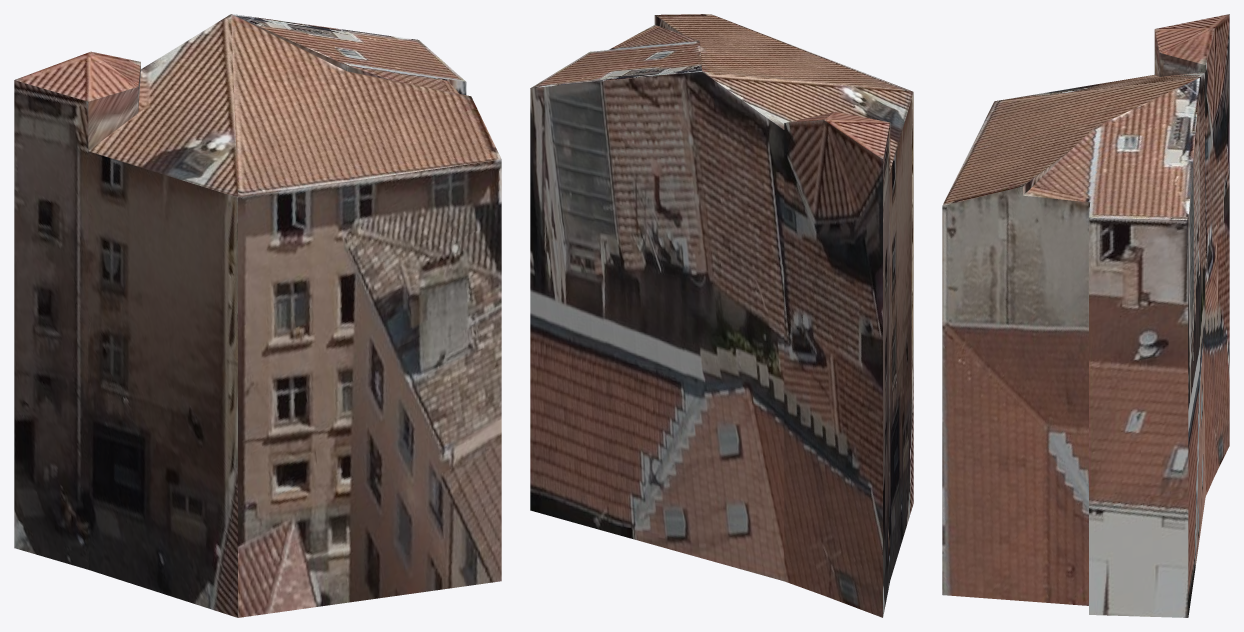
The picture shows the model from 3 angles, left to right: view 1: azimuth 30°, elevation 25°; view 2: azimuth 150°, elevation 25°; view 3: azimuth 270°, elevation 25°; orthographic projection. The views are drawn at different scales.
Parts seen in each view (by area): view 1: Z_UP; view 2: Z_UP; view 3: Z_UP.
Part boxes in pixels (box(x1,y1,x2,y2)): Z_UP: box(14, 14, 501, 617); Z_UP: box(530, 14, 913, 617); Z_UP: box(942, 14, 1229, 617).
Bounding box in the file's own units: 15.49 × 19.23 × 10.93.
Materials: 2 (1 with a texture image).
